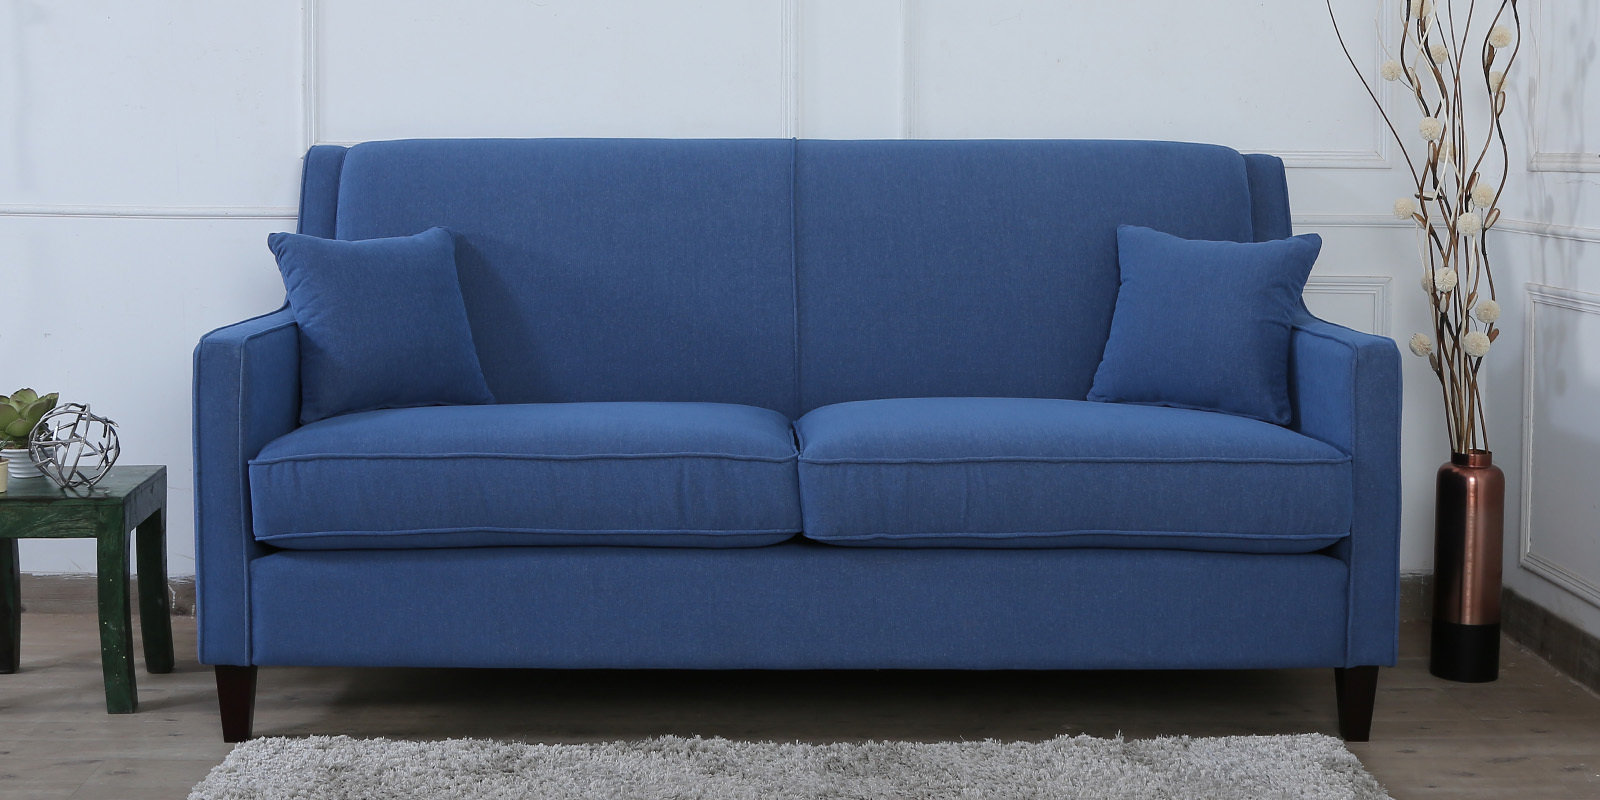Oscar Three Seater Sofa in Denim Blue Colour by CasaCraft: (190, 134, 1403, 741)
